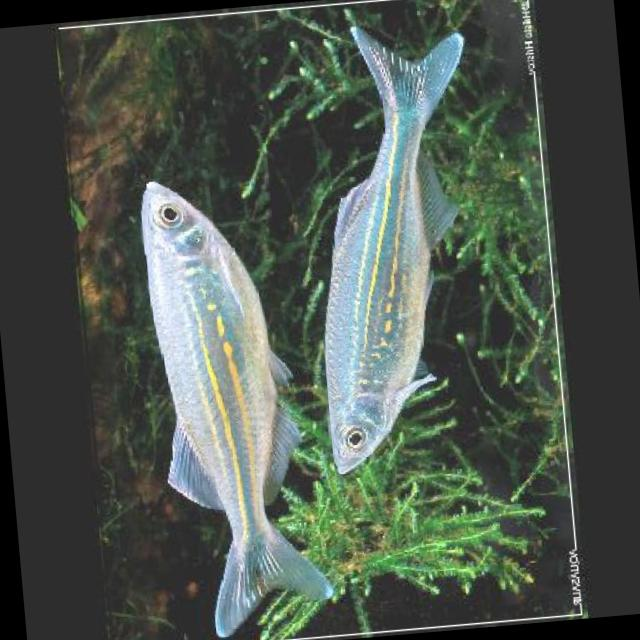ZebraFish: (288, 23, 495, 480), (128, 178, 324, 639)
